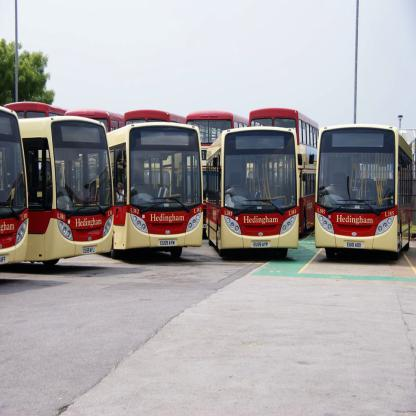Bus: (1, 101, 320, 236), (19, 116, 115, 265), (310, 122, 413, 260), (206, 124, 304, 255), (106, 124, 204, 254), (0, 106, 30, 268)
